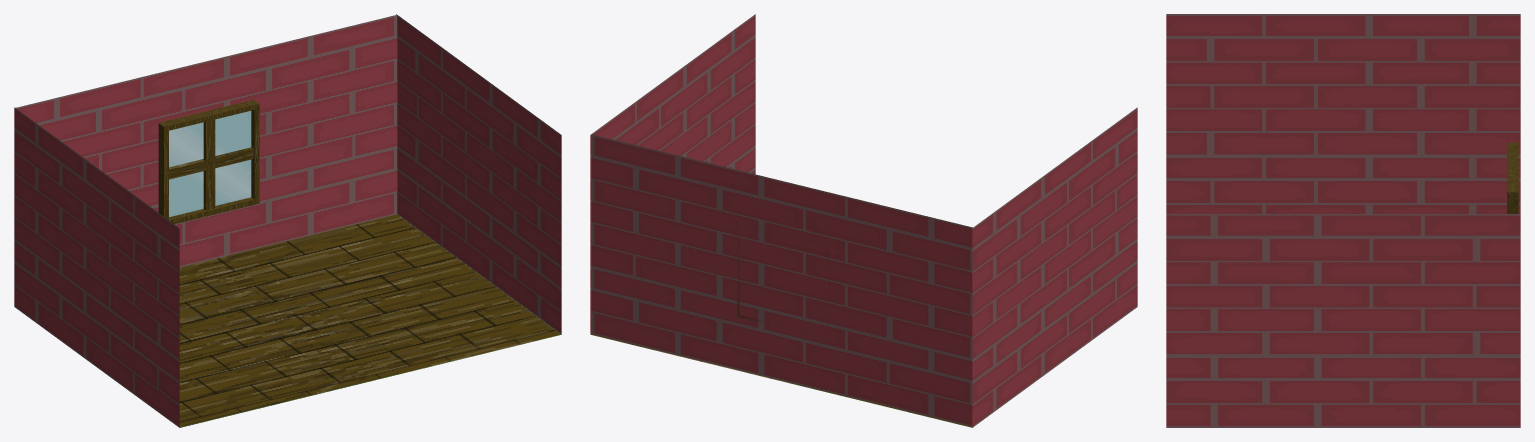
Rendered from room.fbx.
The picture shows the model from 3 angles, left to right: view 1: azimuth 30°, elevation 25°; view 2: azimuth 150°, elevation 25°; view 3: azimuth 270°, elevation 25°; orthographic projection. The views are drawn at different scales.
Parts seen in each view (by area): view 1: Plane001, Plane002, Plane003, Plane004, Window; view 2: Plane002, Plane003, Plane004, Plane001; view 3: Plane004, Plane003, Window.
Boxes of the visible parts, bbox=[...] form: Plane001: bbox=[179, 214, 561, 427]; Plane002: bbox=[16, 15, 397, 267]; Plane003: bbox=[14, 107, 179, 427]; Plane004: bbox=[396, 14, 561, 334]; Window: bbox=[158, 99, 259, 224]; Plane002: bbox=[591, 134, 972, 426]; Plane003: bbox=[972, 107, 1137, 427]; Plane004: bbox=[590, 14, 755, 334]; Plane001: bbox=[591, 334, 972, 427]; Plane004: bbox=[1166, 214, 1520, 427]; Plane003: bbox=[1166, 14, 1520, 213]; Window: bbox=[1507, 142, 1518, 213].
Bounding box in the file's own units: 200 × 100 × 150.
Materials: 4 (4 with a texture image).
